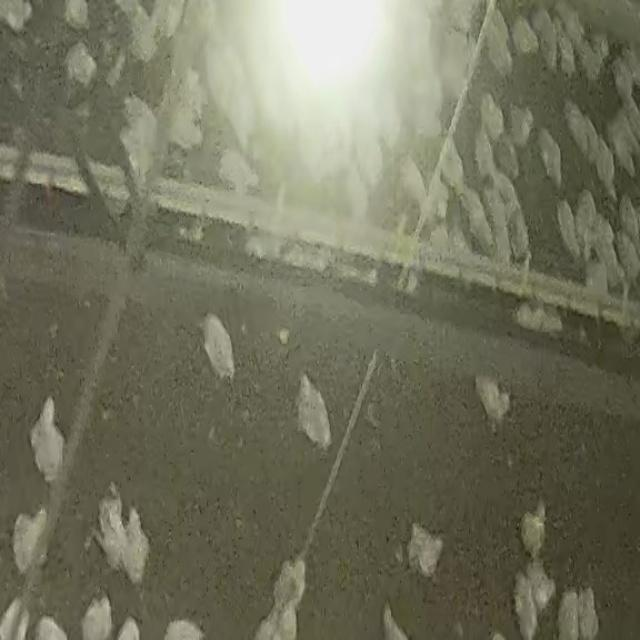chicken: (117, 95, 161, 187), (163, 66, 208, 155), (295, 374, 330, 452), (197, 315, 235, 383), (28, 399, 60, 478), (396, 152, 432, 220), (16, 511, 49, 577), (95, 484, 120, 569), (509, 568, 538, 640), (148, 0, 190, 49), (459, 184, 491, 248), (481, 8, 513, 72), (529, 8, 562, 67), (125, 506, 152, 578), (125, 3, 161, 57), (472, 377, 514, 423), (440, 138, 468, 204), (617, 194, 640, 273), (269, 561, 306, 610), (520, 500, 551, 556), (594, 222, 622, 284), (405, 520, 436, 575), (256, 606, 306, 640), (493, 132, 523, 188), (64, 41, 98, 90), (563, 102, 592, 158), (606, 121, 634, 178), (574, 30, 604, 83), (539, 128, 565, 188), (78, 596, 113, 640), (510, 12, 540, 62), (512, 202, 534, 267), (491, 194, 511, 265), (551, 22, 578, 74), (0, 594, 28, 640), (527, 559, 554, 606), (445, 1, 480, 36), (600, 139, 620, 200), (579, 583, 600, 640), (381, 604, 413, 640), (557, 200, 577, 256), (511, 106, 535, 151), (480, 94, 502, 142), (34, 614, 72, 640), (575, 186, 592, 243), (428, 221, 454, 258), (1, 0, 31, 32), (104, 52, 128, 91), (560, 585, 577, 640), (429, 170, 449, 216), (0, 141, 22, 182), (475, 133, 494, 180), (614, 56, 632, 105), (62, 0, 90, 27), (171, 619, 203, 640), (114, 616, 141, 640), (622, 103, 640, 133)
